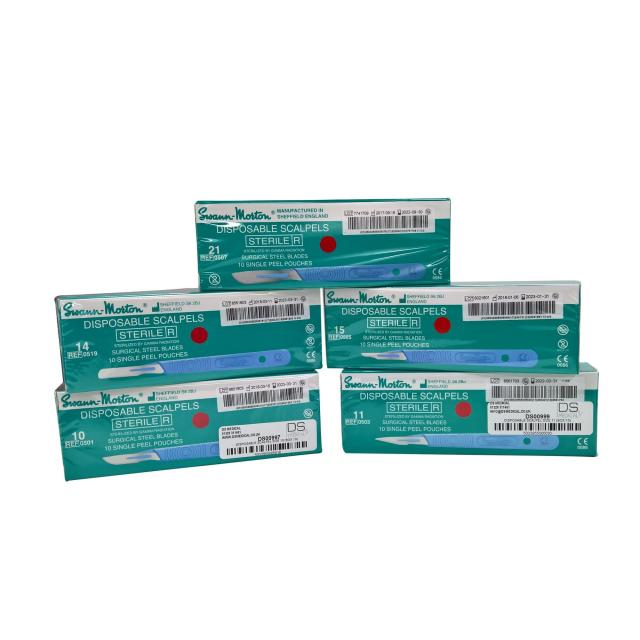B3: (102, 430, 290, 470), (93, 349, 294, 383), (231, 262, 431, 289), (374, 431, 560, 454), (358, 349, 542, 365)
